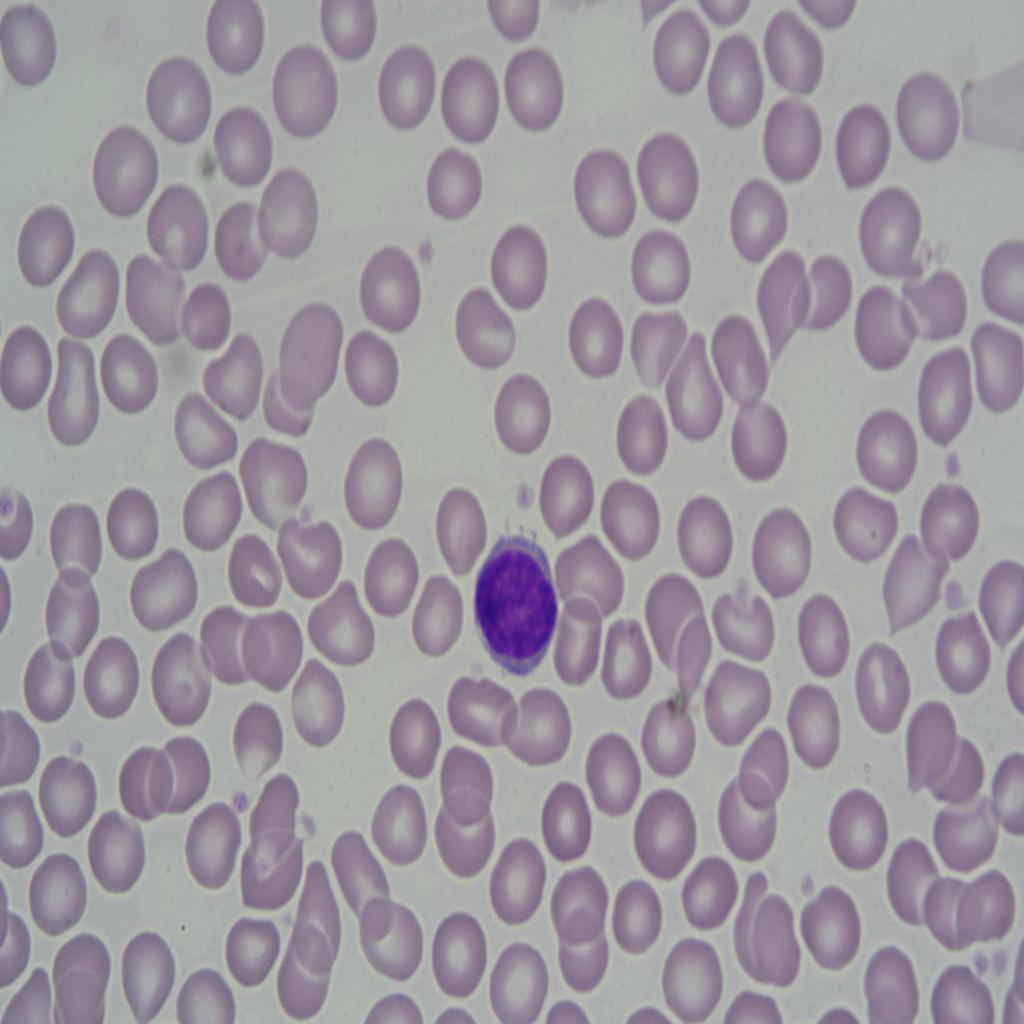Eritrosit: (431, 780, 504, 891), (890, 58, 962, 170), (341, 422, 407, 543), (736, 875, 804, 990), (139, 49, 215, 151), (19, 842, 90, 951), (86, 118, 159, 223), (358, 883, 432, 986), (6, 188, 82, 288), (328, 817, 399, 924), (663, 334, 729, 448), (280, 654, 350, 761), (776, 676, 846, 783), (846, 626, 912, 738), (122, 548, 205, 636), (632, 785, 702, 889), (647, 0, 716, 105), (711, 642, 775, 754), (556, 293, 624, 398), (53, 238, 119, 346), (179, 790, 245, 898), (634, 124, 699, 232), (570, 146, 636, 251), (556, 523, 626, 622), (122, 249, 184, 360), (361, 237, 430, 336), (712, 766, 780, 866), (748, 502, 815, 603), (916, 338, 978, 447), (46, 325, 100, 450), (503, 678, 577, 769), (668, 483, 732, 588), (709, 580, 785, 668), (272, 36, 338, 137), (147, 634, 215, 732), (596, 468, 668, 560), (437, 53, 501, 156), (848, 400, 918, 494), (303, 576, 376, 666), (41, 749, 107, 848), (704, 311, 772, 407), (421, 904, 485, 1006), (900, 678, 958, 790), (287, 855, 342, 973), (758, 6, 824, 104), (230, 829, 304, 916), (486, 363, 552, 460), (100, 476, 164, 576), (832, 474, 900, 568), (446, 670, 522, 754), (0, 0, 70, 91), (410, 567, 473, 668), (221, 515, 287, 611), (859, 188, 927, 281), (884, 826, 942, 935), (506, 45, 569, 145), (117, 924, 180, 1024), (709, 28, 765, 140), (660, 927, 724, 1024), (46, 496, 104, 603), (378, 36, 438, 139), (877, 537, 940, 635), (859, 926, 922, 1024), (806, 880, 867, 981), (274, 928, 338, 1024), (615, 387, 677, 486), (929, 793, 1002, 877), (232, 434, 305, 518), (729, 395, 798, 483), (368, 785, 435, 875), (489, 220, 551, 316), (730, 172, 790, 271), (178, 466, 245, 554), (216, 98, 280, 190), (826, 774, 890, 866), (258, 167, 324, 256), (602, 603, 659, 706), (244, 606, 306, 700), (649, 561, 706, 663), (900, 252, 966, 340), (851, 286, 915, 376), (736, 722, 794, 821), (586, 732, 648, 824), (278, 529, 352, 606), (362, 538, 425, 628), (833, 93, 892, 189), (90, 801, 147, 900), (214, 913, 285, 992), (84, 634, 141, 732), (545, 854, 611, 938), (196, 605, 263, 687), (208, 196, 269, 286), (928, 952, 1004, 1024), (42, 567, 102, 657), (343, 325, 405, 412), (763, 92, 819, 188), (454, 282, 511, 376), (917, 480, 980, 565), (962, 862, 1024, 948), (629, 227, 694, 309), (794, 251, 855, 338), (116, 722, 168, 824), (493, 828, 545, 930), (204, 330, 264, 418), (627, 308, 689, 393), (491, 935, 550, 1024), (796, 595, 857, 681), (543, 782, 601, 872), (760, 243, 807, 354), (152, 733, 217, 813), (197, 0, 264, 77), (544, 452, 598, 546), (240, 766, 298, 853), (558, 588, 602, 702), (974, 317, 1024, 417), (437, 479, 485, 581), (178, 396, 239, 476), (563, 913, 615, 1005), (150, 177, 204, 265), (969, 226, 1024, 312), (430, 140, 488, 221), (390, 701, 444, 788), (925, 862, 978, 950), (53, 922, 114, 998), (4, 317, 50, 417), (680, 850, 734, 934), (98, 341, 156, 418), (982, 543, 1024, 649), (644, 698, 698, 780), (940, 610, 988, 702), (608, 872, 664, 948), (181, 282, 235, 360), (442, 739, 496, 817), (0, 788, 53, 867), (226, 706, 284, 775), (932, 738, 987, 810), (26, 641, 73, 720)
Myeoblast: (466, 529, 561, 682)
Platelet: (406, 226, 436, 268), (512, 464, 534, 513), (226, 782, 253, 815), (937, 581, 963, 613), (946, 453, 973, 482), (797, 870, 820, 904)
